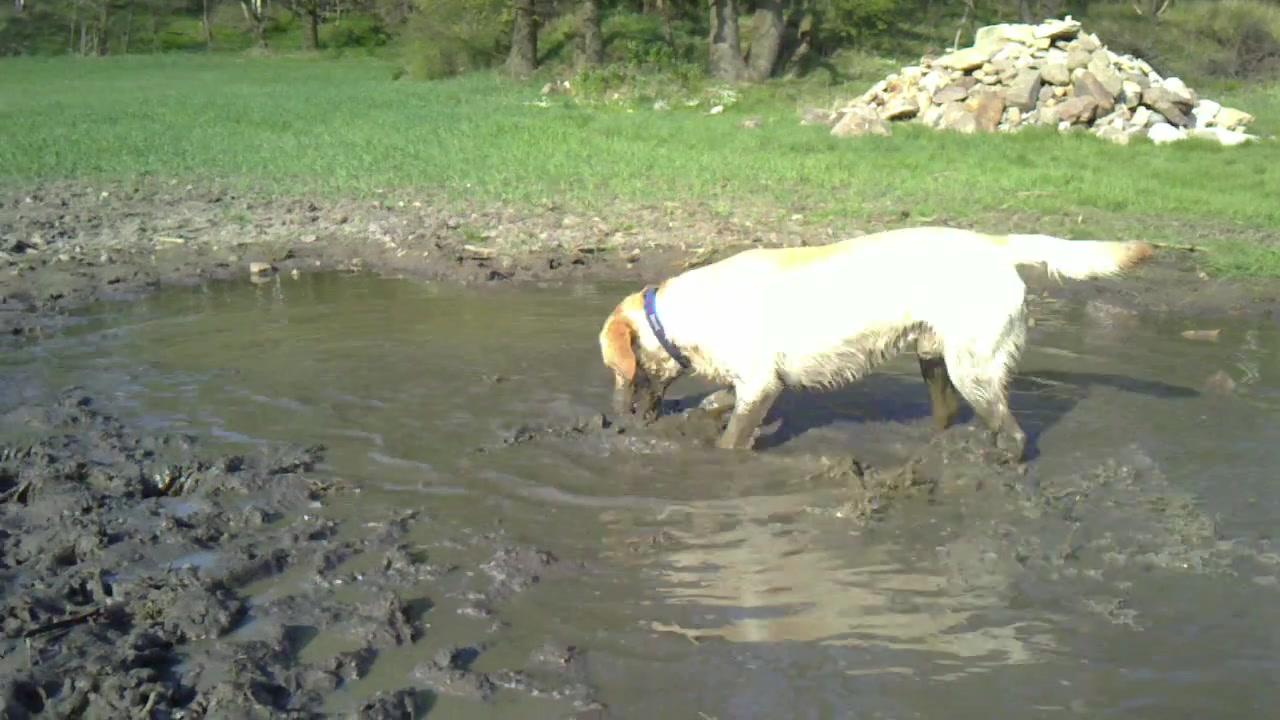dog: (596, 225, 1156, 466)
